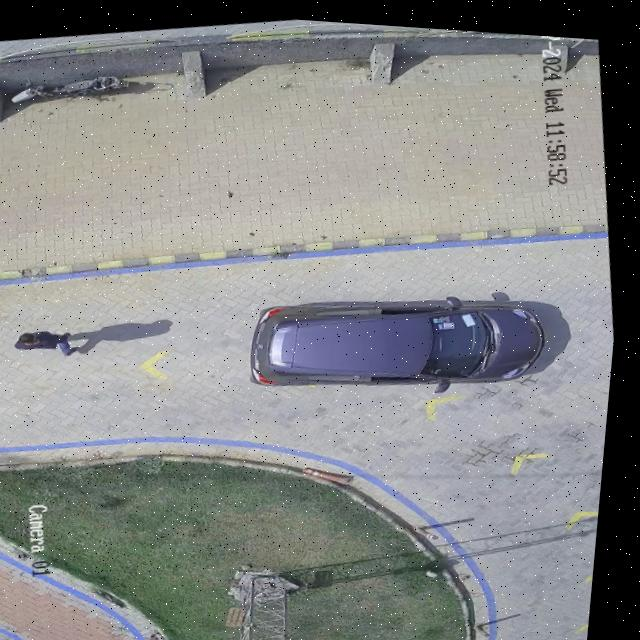car: (256, 290, 547, 385)
